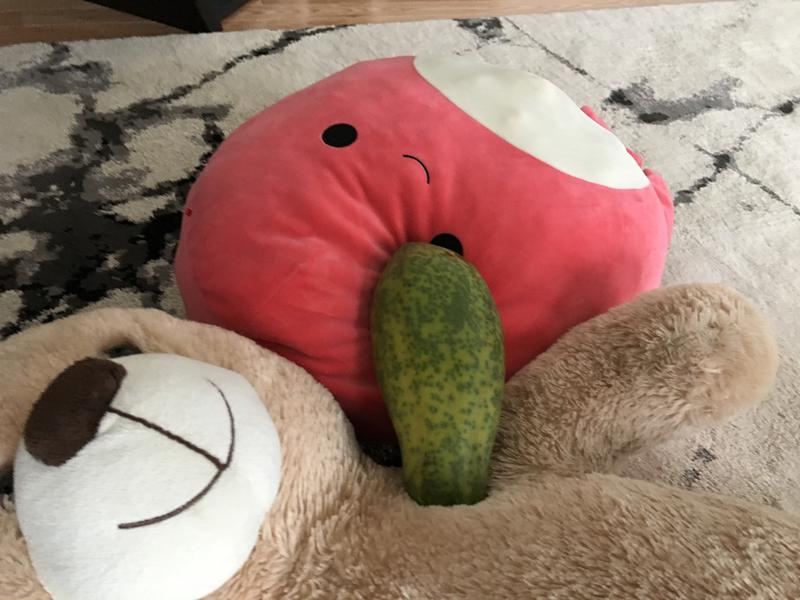papaya: (364, 236, 516, 506)
